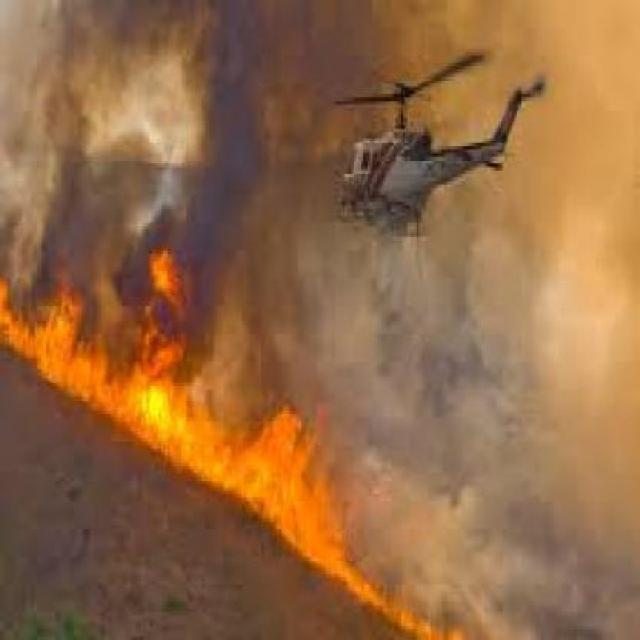Fire: (5, 227, 457, 634)
Smoke: (175, 0, 640, 406)
